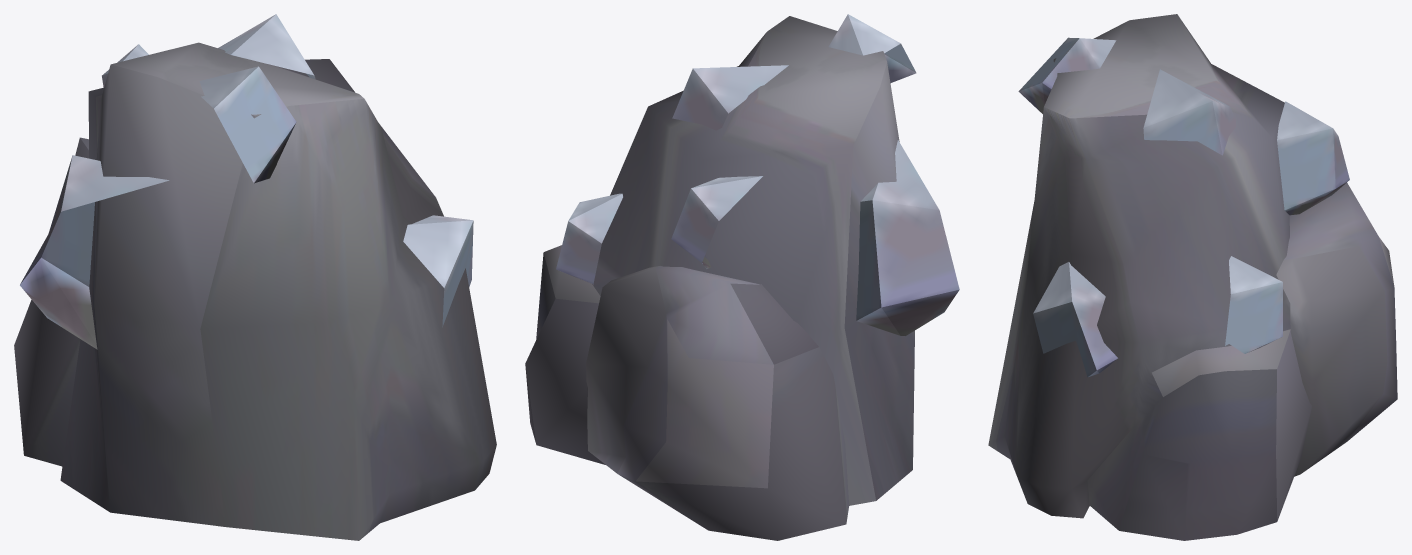
File: RockLargeIron.fbx
3 renders of one model, left to right at view 1: azimuth 30°, elevation 25°; view 2: azimuth 150°, elevation 25°; view 3: azimuth 270°, elevation 25°, orthographic. The views are drawn at different scales.
Parts seen in each view (by area): view 1: RockMesh, Resource1 (3), Resource3, Resource2, Resource2 (1); view 2: RockMesh, Resource1 (3), Resource2 (1), Resource1 (1), Resource1 (2), Resource3; view 3: RockMesh, Resource1 (1), Resource2, Resource2 (1), Resource1 (2), Resource3.
Part boxes in pixels (bbox=[...]): RockMesh: bbox=[14, 42, 496, 540]; Resource1 (3): bbox=[20, 155, 169, 349]; Resource3: bbox=[199, 66, 296, 183]; Resource2: bbox=[403, 215, 473, 327]; Resource2 (1): bbox=[218, 14, 315, 79]; RockMesh: bbox=[525, 16, 914, 540]; Resource1 (3): bbox=[856, 140, 959, 335]; Resource2 (1): bbox=[672, 65, 788, 130]; Resource1 (1): bbox=[671, 176, 762, 268]; Resource1 (2): bbox=[556, 193, 622, 285]; Resource3: bbox=[828, 14, 916, 83]; RockMesh: bbox=[988, 14, 1397, 540]; Resource1 (1): bbox=[1277, 101, 1349, 215]; Resource2: bbox=[1033, 262, 1117, 377]; Resource2 (1): bbox=[1143, 69, 1235, 155]; Resource1 (2): bbox=[1225, 256, 1282, 353]; Resource3: bbox=[1018, 37, 1116, 113].
Size of what is drawn, in the model's own units: 2.25 by 2.12 by 2.03.
